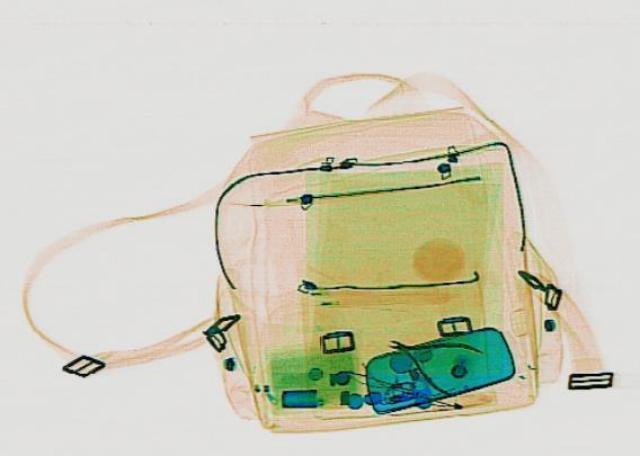Pliers: (366, 320, 489, 395)
